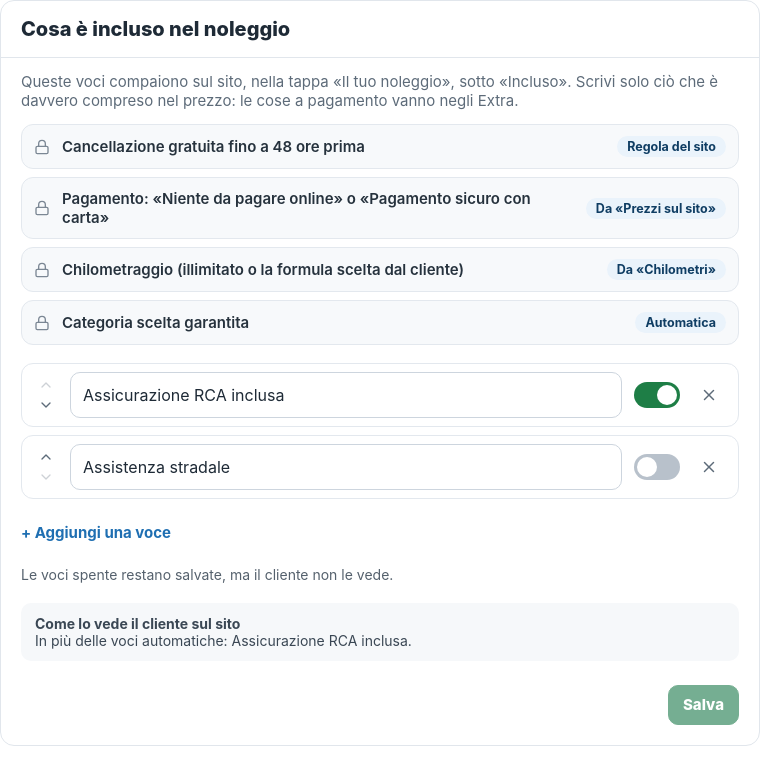
Test: accendere una voce spenta cambia l'anteprima e attiva Salva
Click the switch named "Mostra sul sito: voce 2": (657, 467) [634,454,680,480]
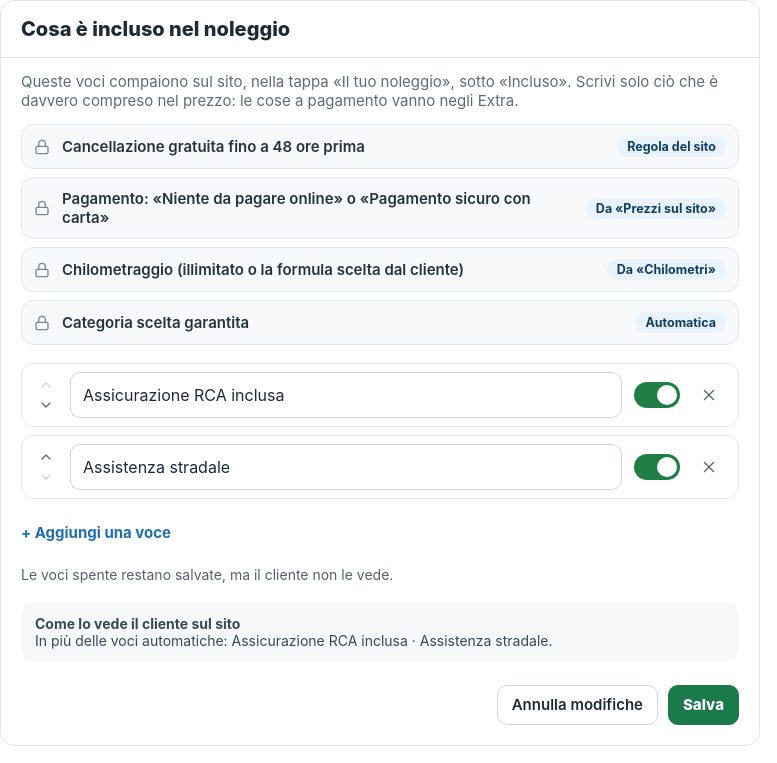
Expected: the text "Assicurazione RCA inclusa · Assistenza stradale." is shown, [21,603,739,661]
Expected: the button "Salva" is enabled, [668,685,739,725]
